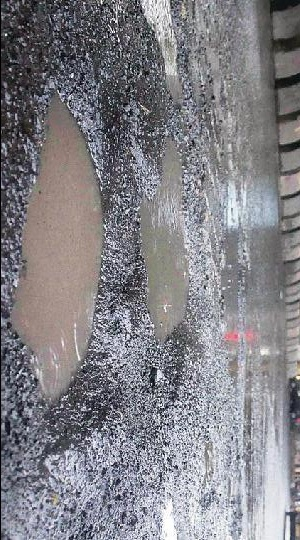pothole: (7, 81, 121, 445), (135, 128, 202, 368)
